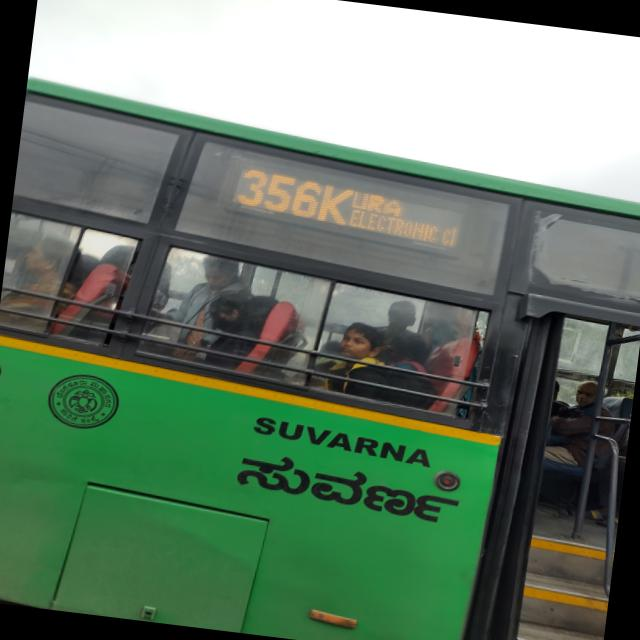bus: (0, 48, 640, 640)
display: (225, 165, 482, 252)
dnumber: (235, 167, 352, 223)
